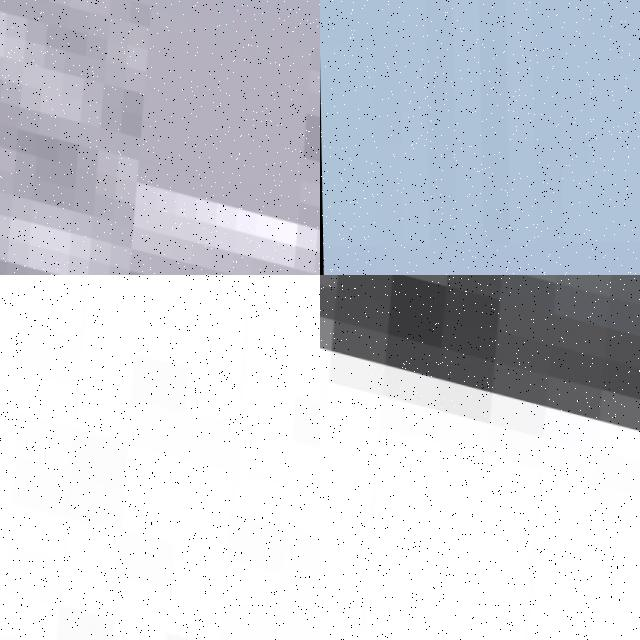0: (0, 0, 320, 275)
drone: (0, 275, 320, 640), (320, 275, 640, 640)
